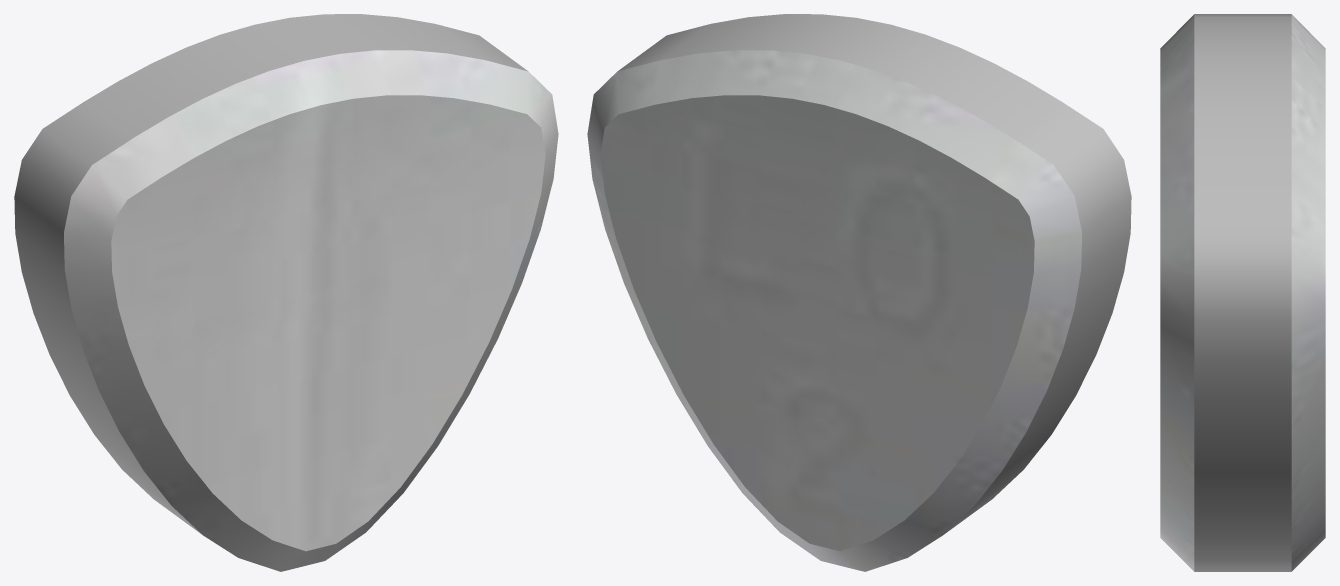
The model's file is 20140311GOPHDRGPT01545.fbx.
The picture shows the model from 3 angles, left to right: view 1: azimuth 30°, elevation 25°; view 2: azimuth 150°, elevation 25°; view 3: azimuth 270°, elevation 25°; orthographic projection.
Parts seen in each view (by area): view 1: 貝茲曲線; view 2: 貝茲曲線; view 3: 貝茲曲線.
Boxes of the visible parts, box(x1,y1,x2,y2) form: 貝茲曲線: box(14, 14, 558, 571); 貝茲曲線: box(587, 14, 1131, 571); 貝茲曲線: box(1160, 14, 1325, 571).
Bounding box in the file's own units: 0.8561 × 0.8358 × 0.2523.
2 materials, 1 textured.
